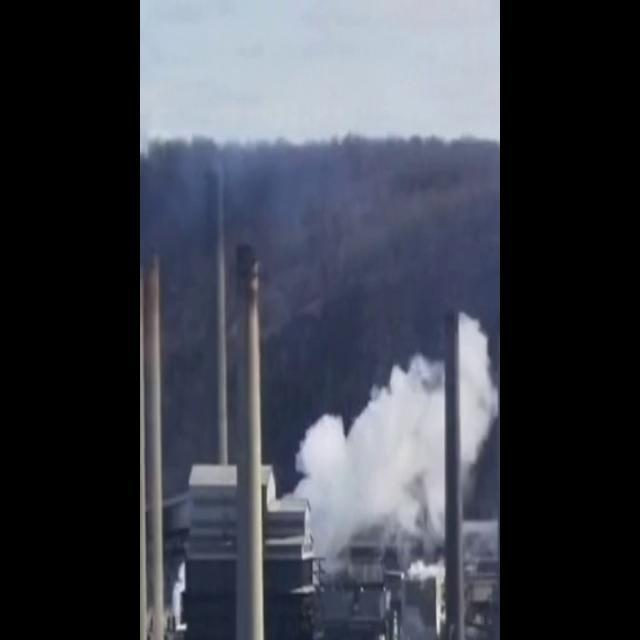Smoke: (292, 357, 443, 560), (460, 320, 498, 474)
